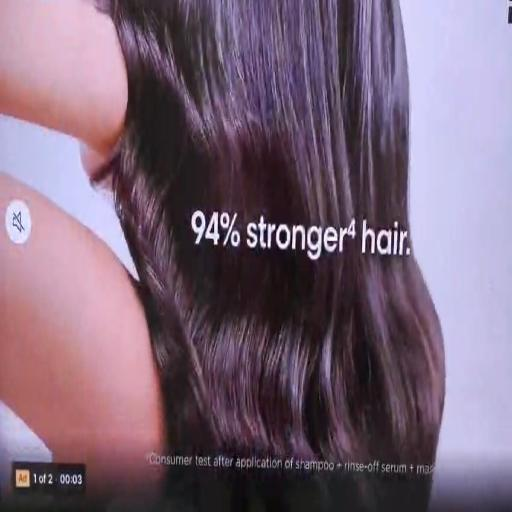ad label: (12, 463, 32, 493)
